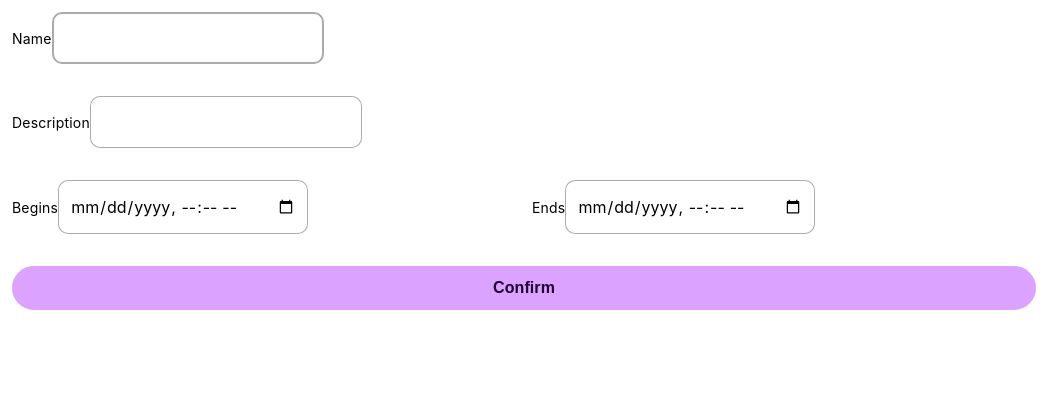
Test: EventForm tests › should failed on submit when required fields are dirty
Click the button "Confirm". click: (524, 288)
box: left=12, top=266, right=1036, bottom=310
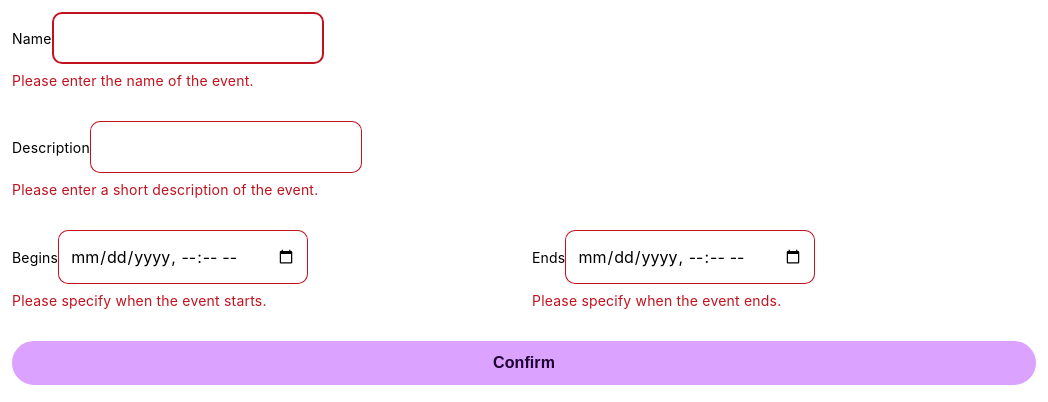
expect the text "Please enter the name of the event." is shown: met, box left=12, top=72, right=254, bottom=89
expect the text "Please enter a short description of the event." is shown: met, box left=12, top=181, right=318, bottom=198
expect the text "Please specify when the event starts." is shown: met, box left=12, top=292, right=267, bottom=309
